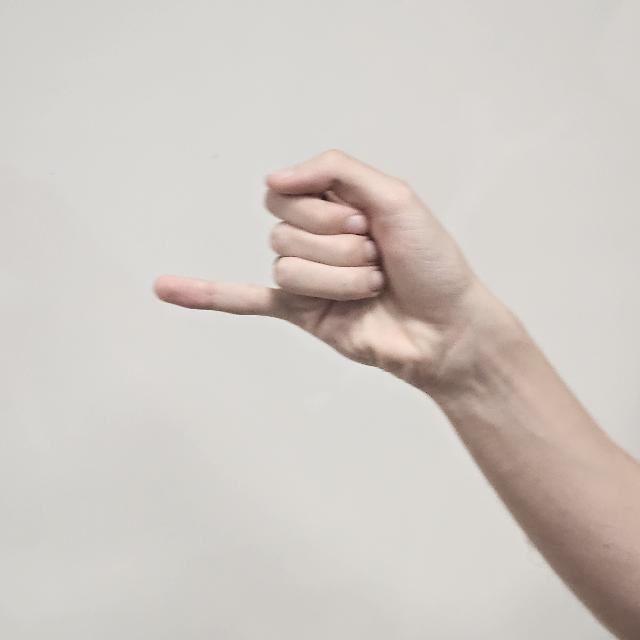Esquerda: (147, 142, 491, 408)
